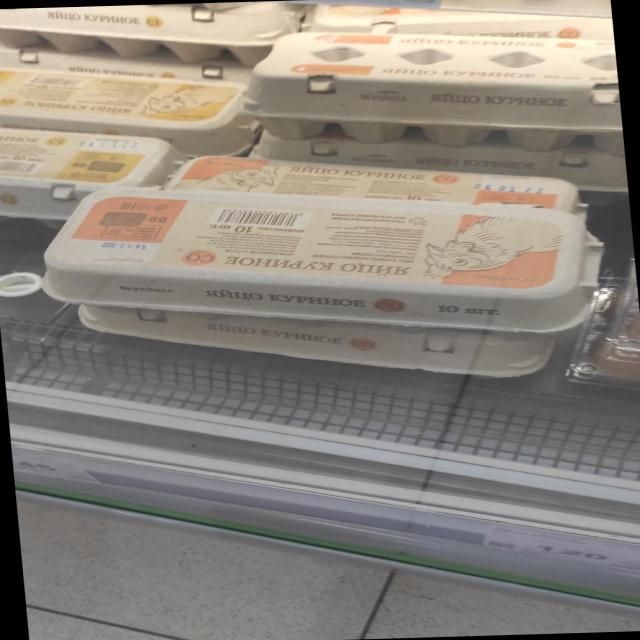organic waste: (25, 169, 615, 349)
